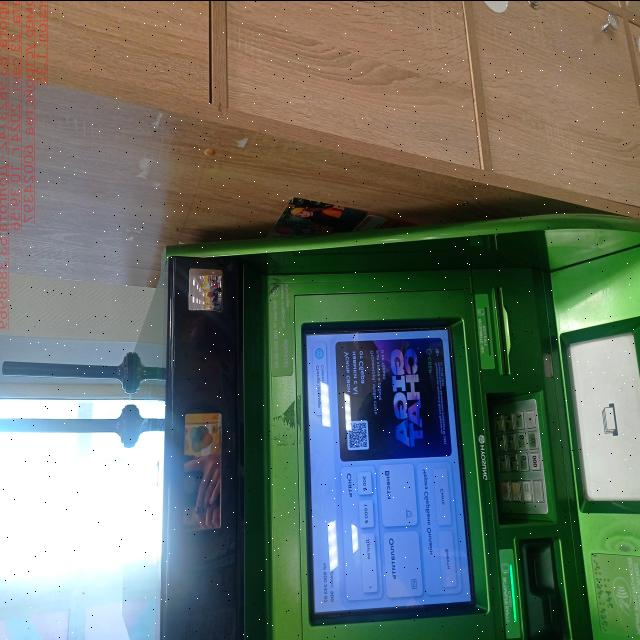bank: (111, 203, 640, 640)
